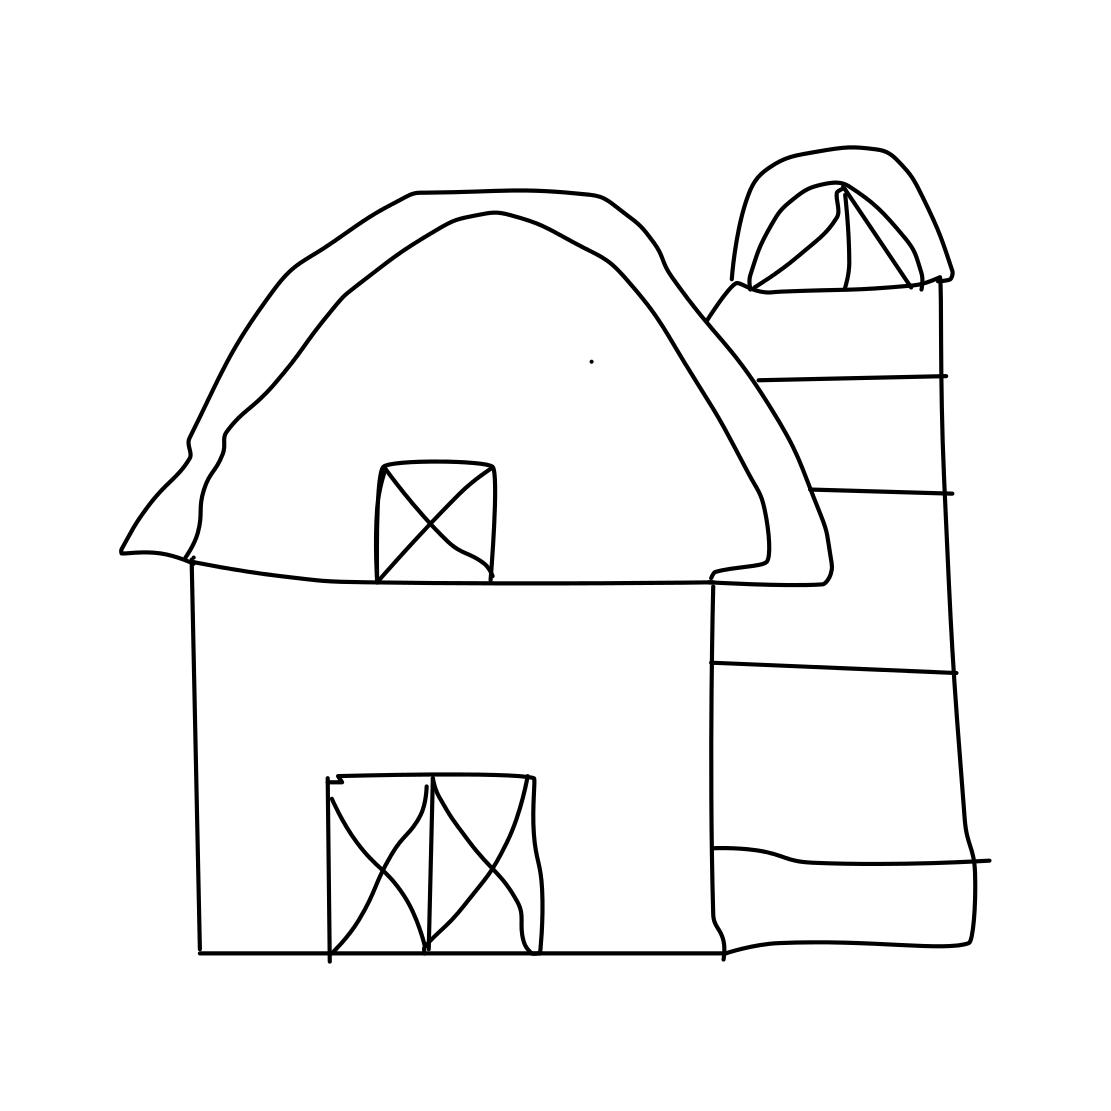House: (118, 154, 836, 968)
